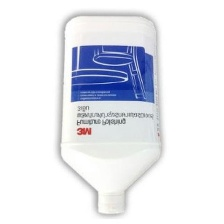cleaning_solution: (56, 14, 162, 216)
